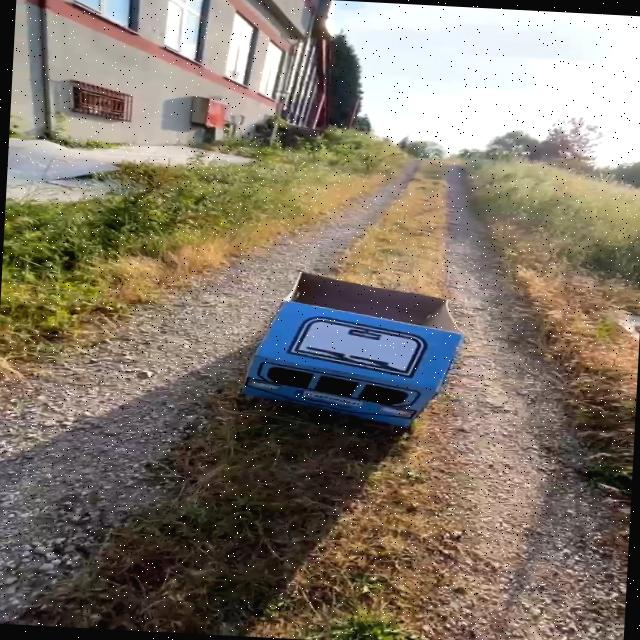blue_car: (201, 242, 488, 486)
